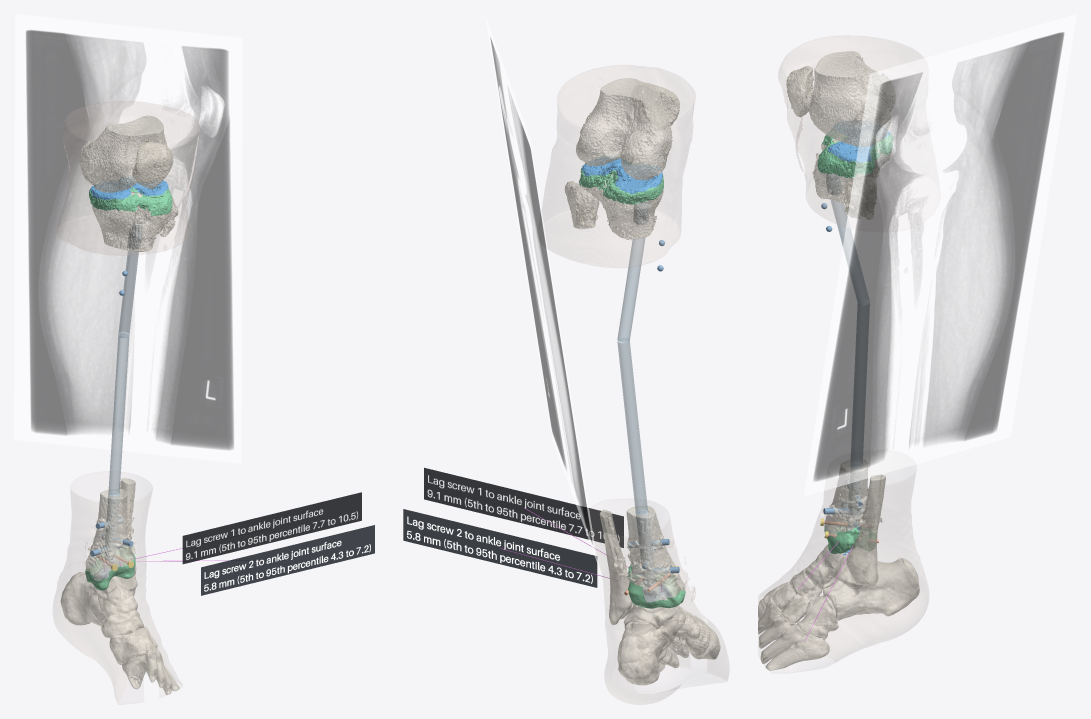
The model's file is 2022-08-05_081620_lat.glb.
3 views of the same model, side by side, from view 1: azimuth 30°, elevation 25°; view 2: azimuth 150°, elevation 25°; view 3: azimuth 270°, elevation 25° (orthographic). The views are drawn at different scales.
Parts seen in each view (by area): view 1: radiograph, skin, implant_8, tibia, implant_16, tarsal, femur, nail_modelled, patella, metatarsal, capsule_band_knee, articular_surface_knee (+3 smaller); view 2: skin, radiograph, femur, implant_17, implant_9, tibia, tarsal, nail_modelled, fibula, articular_surface_knee, capsule_band_knee, nail (+3 smaller); view 3: radiograph, skin, tarsal, femur, fibula, tibia, nail_modelled, metatarsal, capsule_band_knee, patella, articular_surface_knee, capsule_band_ankle (+1 smaller).
Boxes of the visible parts, x1,y1,x2,y2 form: radiograph: (14,14,242,463); skin: (53,101,198,702); implant_8: (182,492,361,564); tibia: (85,188,170,590); implant_16: (201,525,374,595); tarsal: (60,569,157,664); femur: (78,115,167,192); nail_modelled: (108,251,138,495); patella: (132,141,173,189); metatarsal: (122,646,179,694); capsule_band_knee: (89,181,172,216); articular_surface_knee: (89,176,168,200); skin: (542,65,728,704); radiograph: (485,15,597,564); femur: (576,78,672,180); implant_17: (403,509,597,587); implant_9: (424,467,623,547); tibia: (579,169,685,607); tarsal: (617,587,710,685); nail_modelled: (617,237,647,514); fibula: (564,181,632,624); articular_surface_knee: (581,157,662,193); capsule_band_knee: (579,162,663,204); nail: (633,201,655,587); radiograph: (804,14,1076,496); skin: (758,36,928,662); tarsal: (763,544,919,638); femur: (809,51,895,147); fibula: (844,176,885,585); tibia: (812,139,890,554); nail_modelled: (830,199,869,466); metatarsal: (758,598,829,670); capsule_band_knee: (817,129,892,178); patella: (786,66,814,117); articular_surface_knee: (828,121,890,162); capsule_band_ankle: (824,526,876,553).
Size of the model in its own units: 0.2864 by 0.581 by 0.2561.
Materials: 15 (3 with a texture image).
